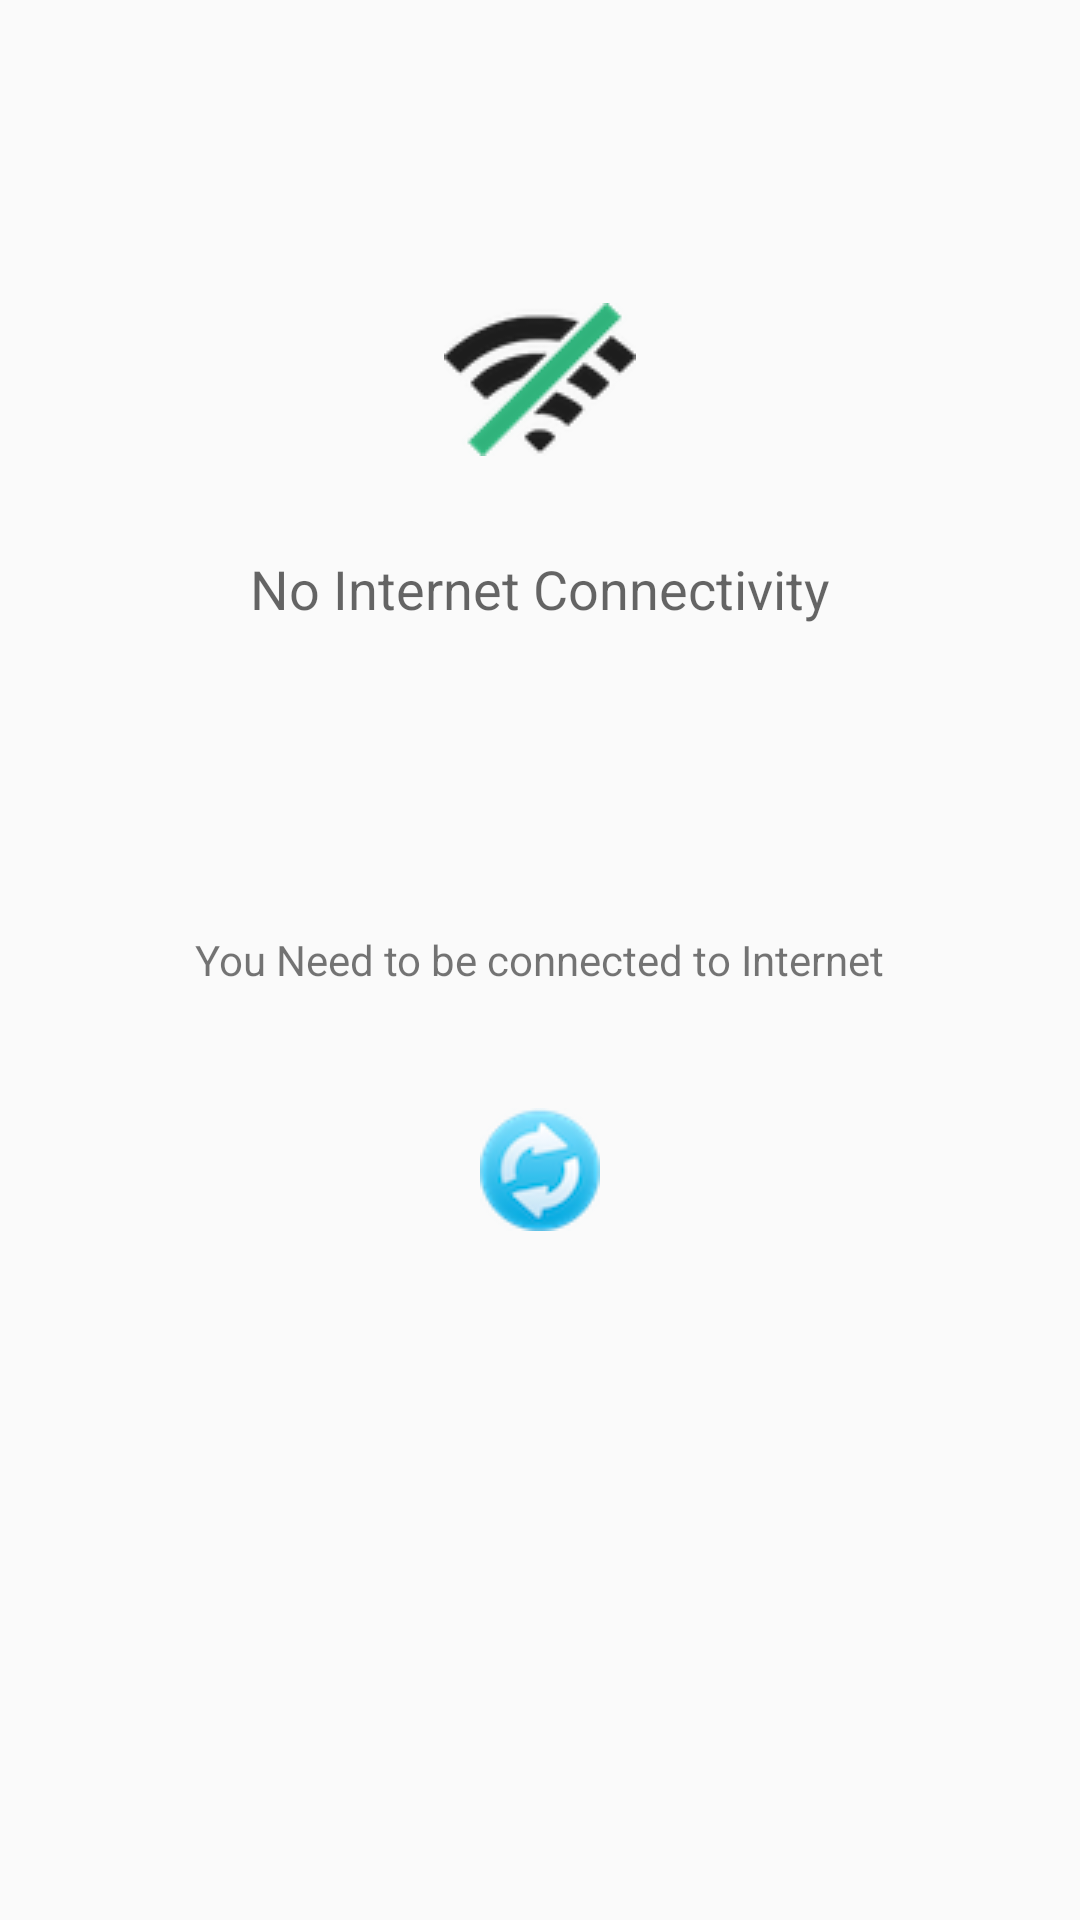

Icon click points for this 1080×1920 phone screenshot, format (x=x, y=y):
nonetworkicon: (x=540, y=379)
refresh: (x=540, y=1170)
